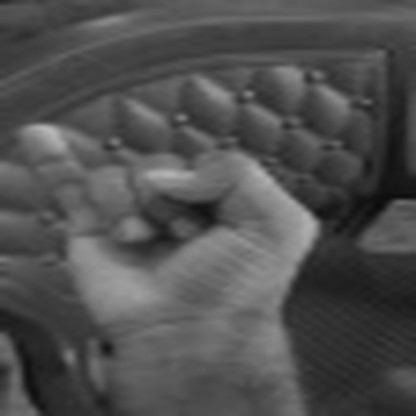i: (6, 117, 324, 328)
